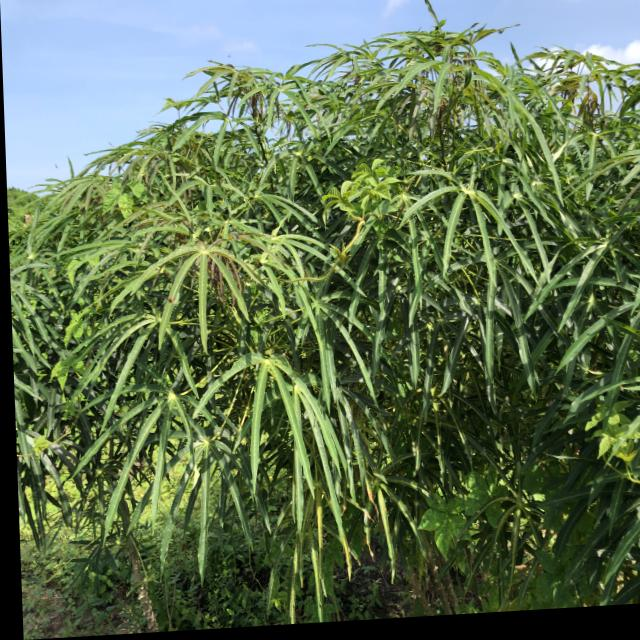Maleza: (326, 159, 394, 219)
Mosca: (162, 292, 176, 304)
